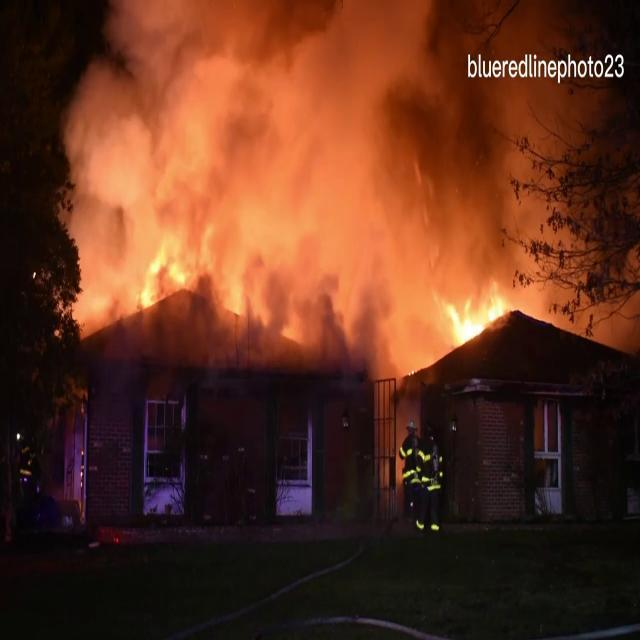Fire: (440, 272, 516, 346)
Smoke: (66, 0, 510, 356)
